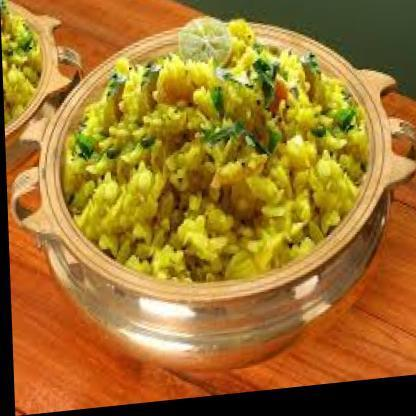poha: (55, 8, 371, 300), (0, 0, 43, 126)
